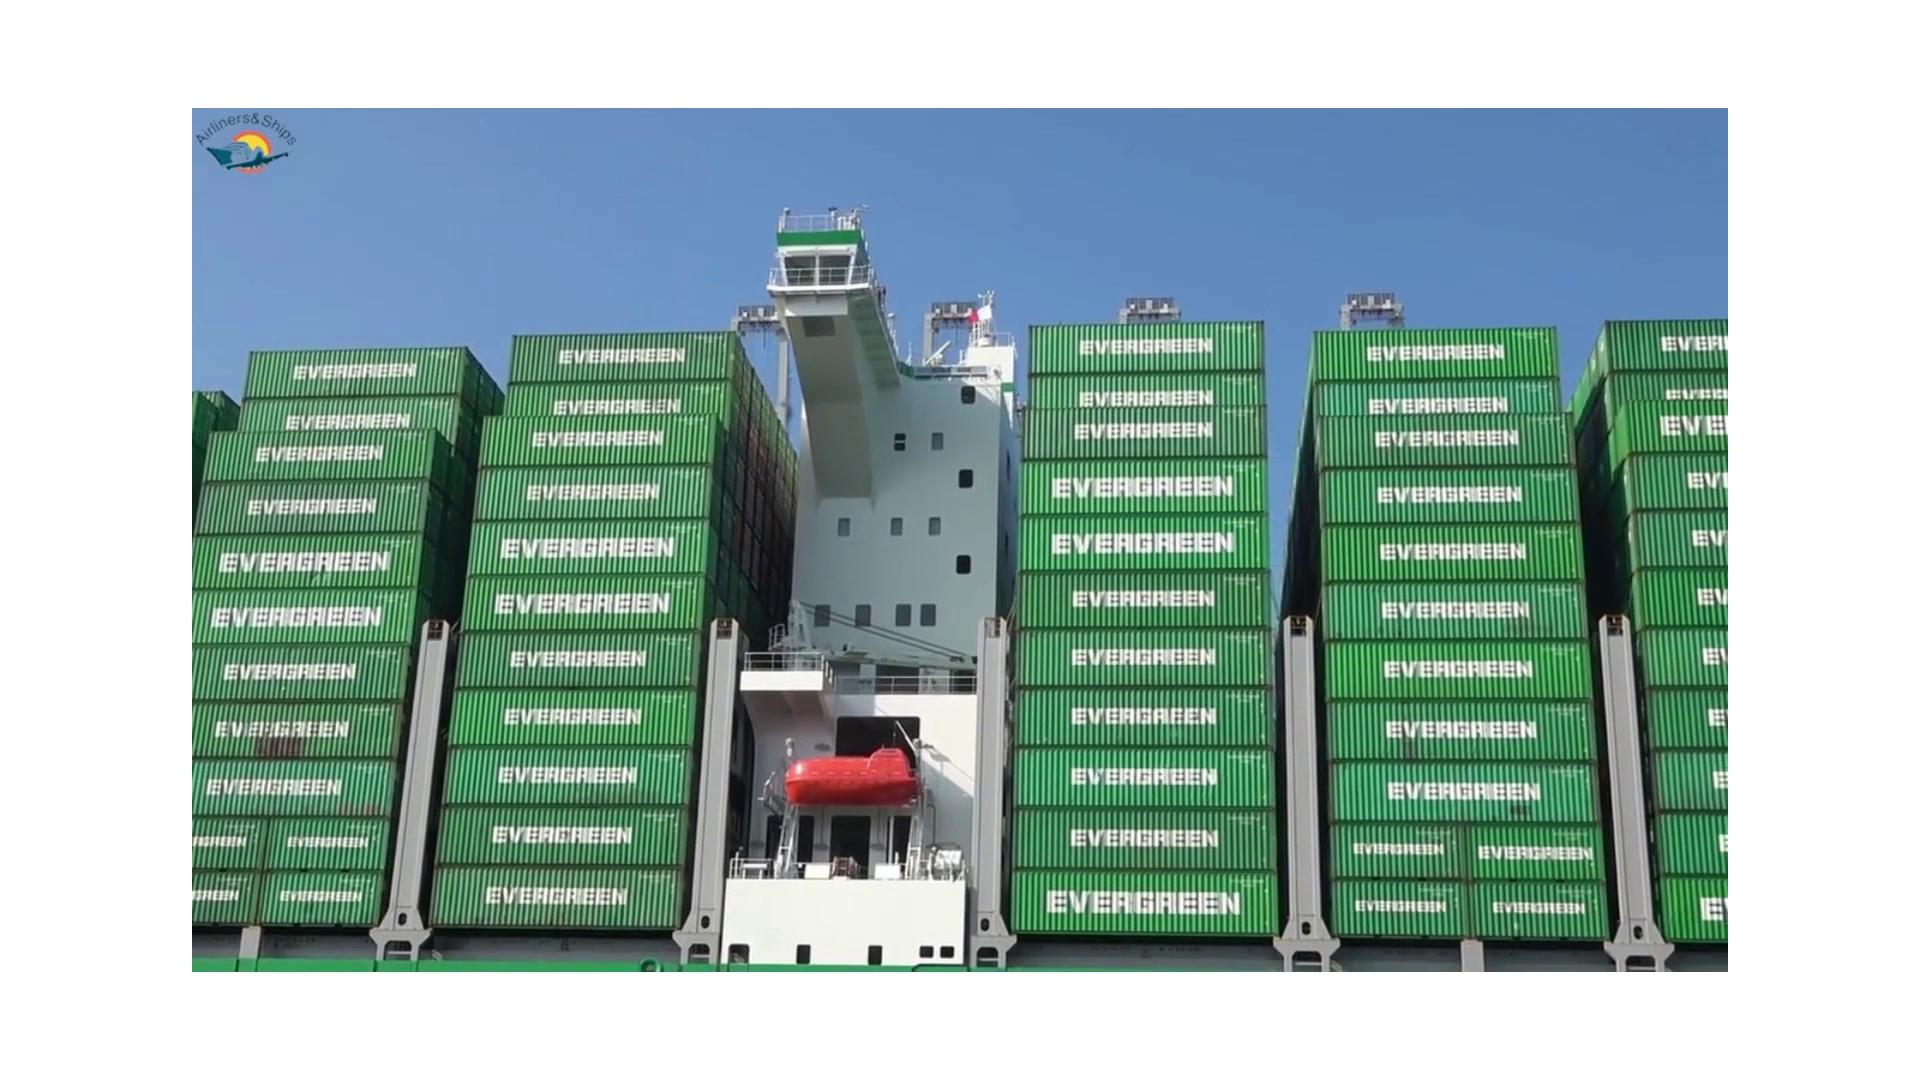OCR: (485, 574, 712, 640), (1036, 512, 1242, 570), (464, 808, 650, 861)
